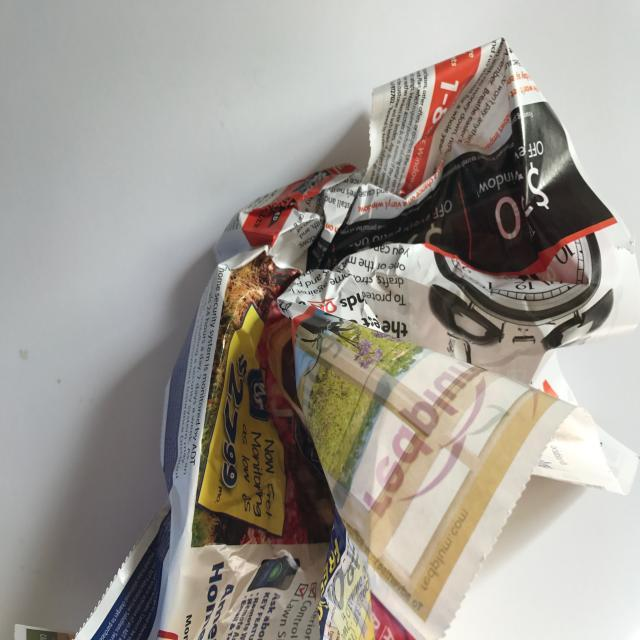paper: (13, 36, 640, 640)
